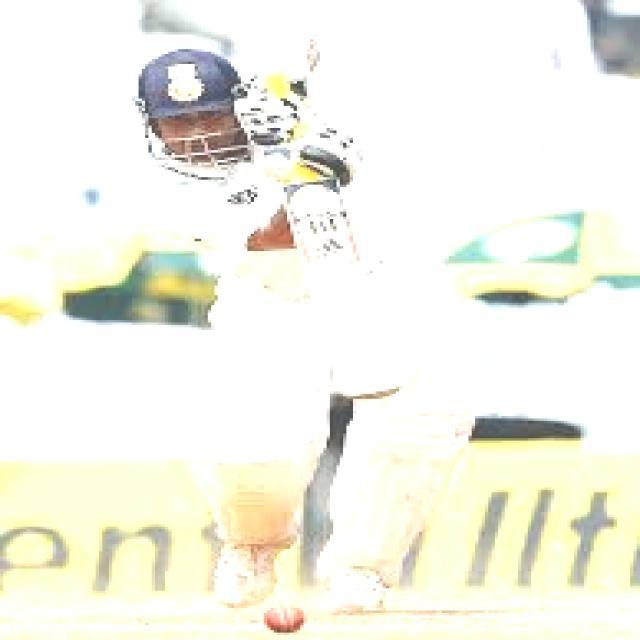bat: (264, 154, 426, 411)
toe: (328, 379, 416, 404)
